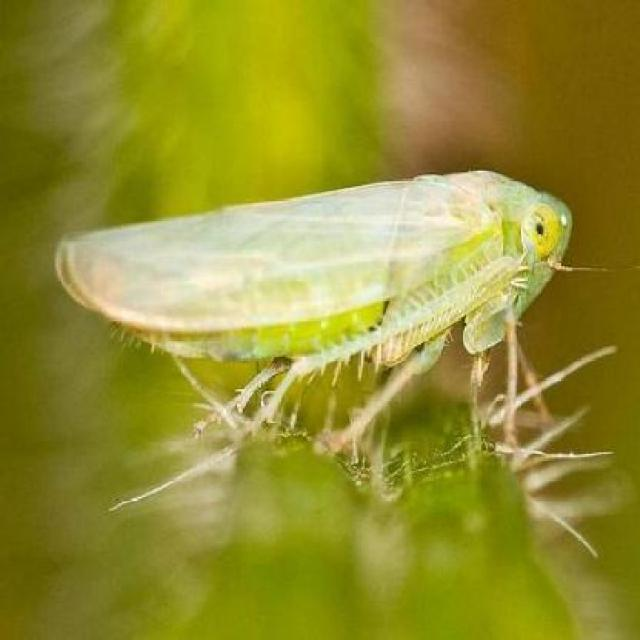green-leafhopper: (46, 163, 577, 382)
